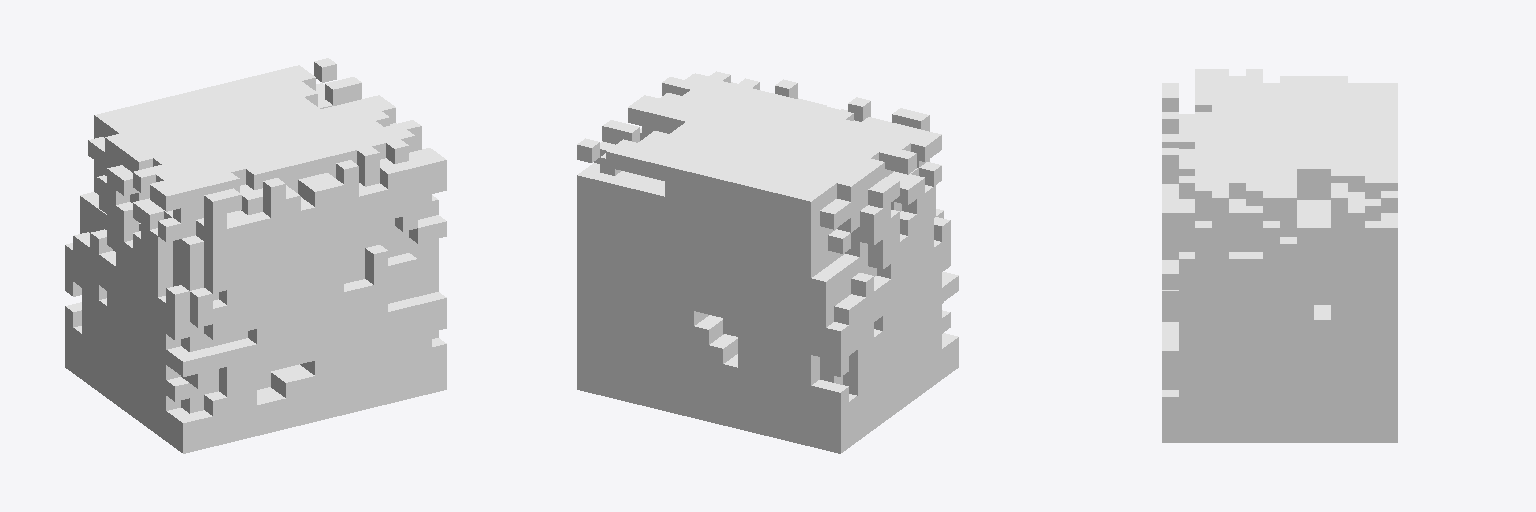
The model's file is House1-22.obj.
3 renders of one model, left to right at view 1: azimuth 30°, elevation 25°; view 2: azimuth 150°, elevation 25°; view 3: azimuth 270°, elevation 25°, orthographic.
Visible parts, largest first — view 1: object 1; view 2: object 1; view 3: object 1.
Boxes of the visible parts, <box> form: object 1: <box>65,58,446,453</box>; object 1: <box>577,71,958,453</box>; object 1: <box>1162,69,1397,442</box>.
Bounding box in the file's own units: 1.8 × 1.6 × 1.4.